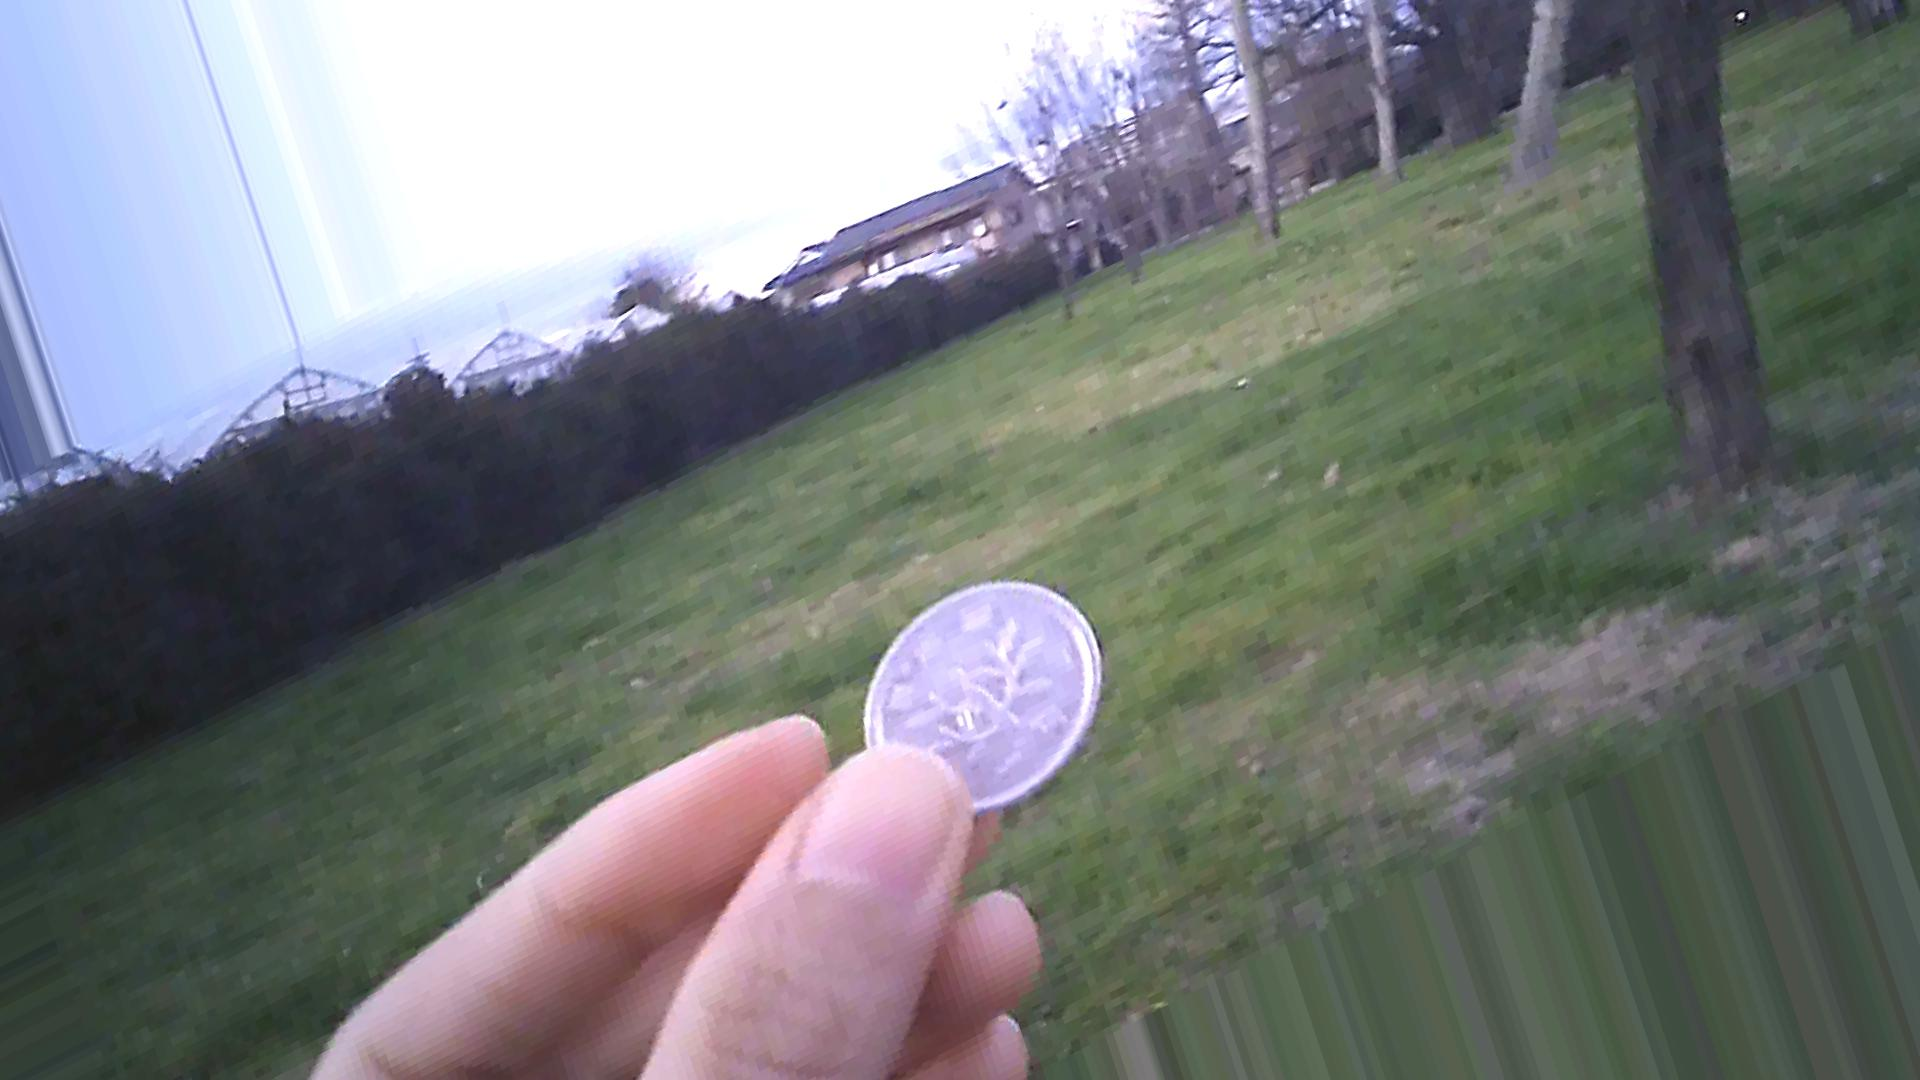1 Yen: (864, 578, 1105, 812)
